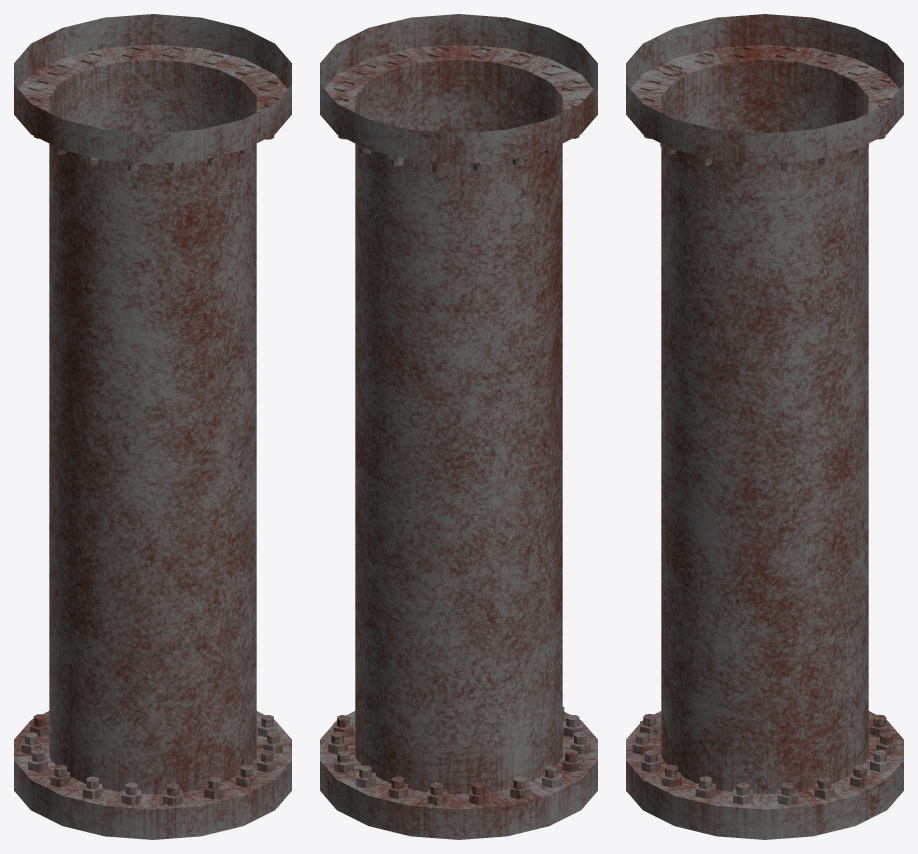
The model's file is pipe_straight.FBX.
3 renders of one model, left to right at view 1: azimuth 30°, elevation 25°; view 2: azimuth 150°, elevation 25°; view 3: azimuth 270°, elevation 25°, orthographic.
Parts seen in each view (by area): view 1: pipe_straight; view 2: pipe_straight; view 3: pipe_straight.
Boxes of the visible parts, bbox=[...] form: pipe_straight: bbox=[14, 14, 291, 839]; pipe_straight: bbox=[320, 14, 597, 839]; pipe_straight: bbox=[626, 14, 903, 839].
Size of what is drawn, in the model's own units: 0.4369 by 1.21 by 0.4303.
1 material, 1 textured.
